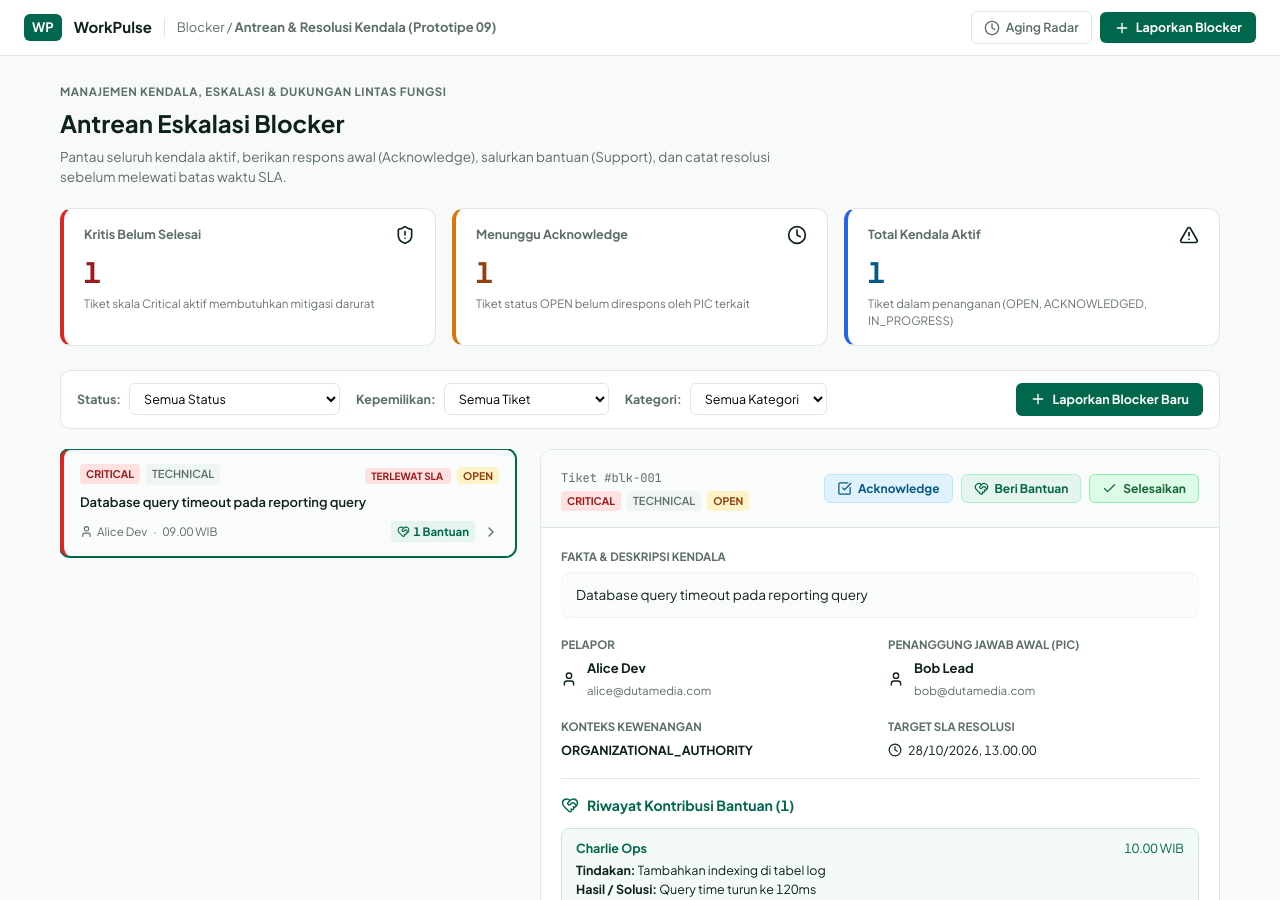
Test case: BlockerQueueView.vue (WP-EP06 / Prototipe 09 - Antrean Eskalasi Blocker & Support) › opens support contribution modal when Beri Bantuan is clicked
Click the button "Beri Bantuan" at (1021, 488), box left=960, top=474, right=1081, bottom=503
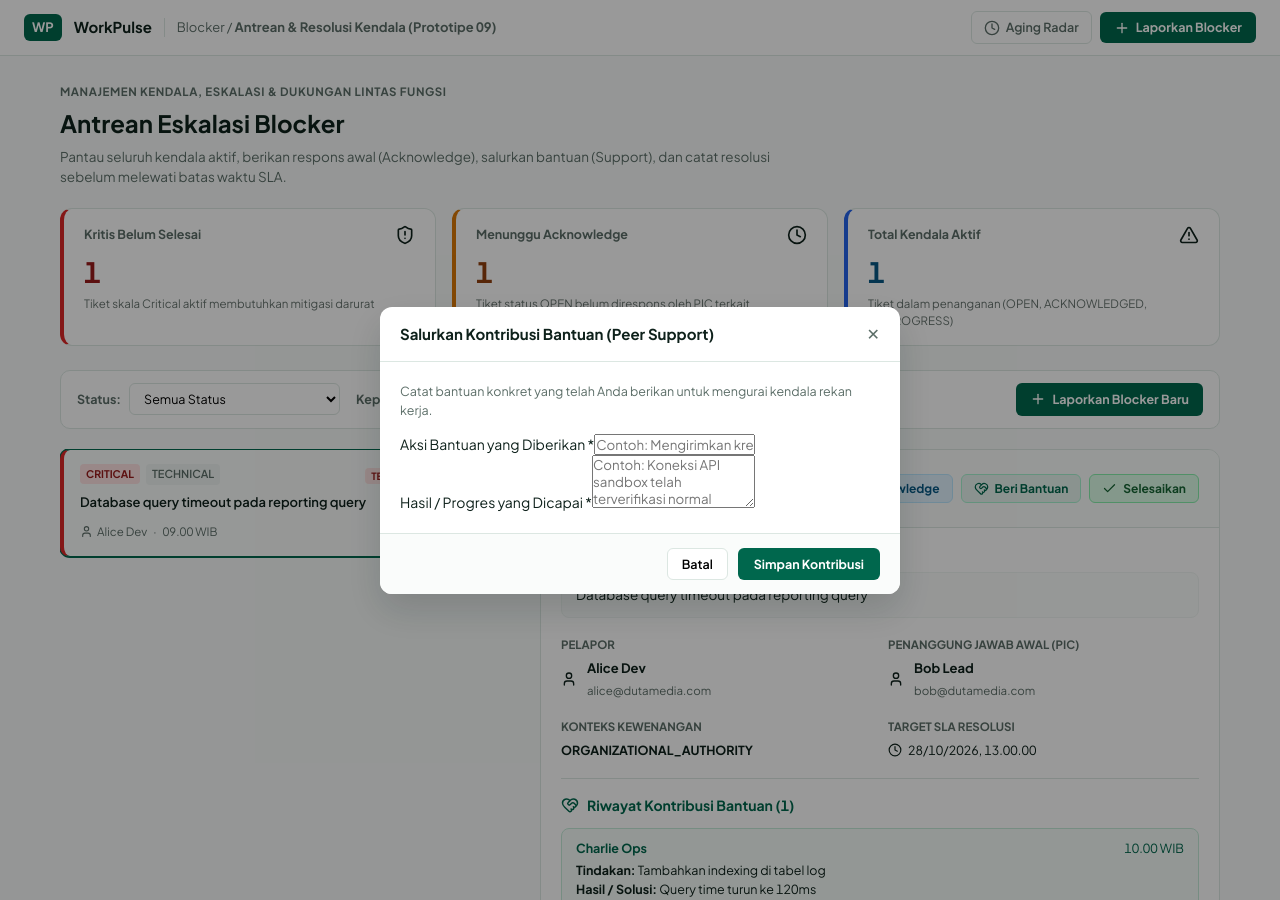
Expected: the text "Salurkan Kontribusi Bantuan (Peer Support)" is shown, left=400, top=322, right=714, bottom=345
